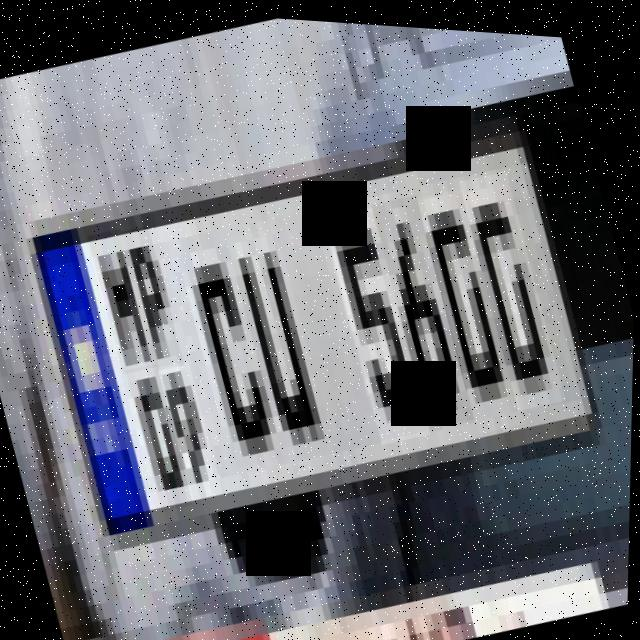0: (413, 179, 531, 430), (455, 161, 571, 406), (124, 359, 198, 510)
5: (320, 200, 436, 443)
6: (369, 186, 480, 425)
9: (156, 356, 227, 500)
C: (174, 223, 288, 467)
M: (86, 225, 160, 374)
P: (119, 222, 188, 369)
U: (224, 221, 340, 465)
